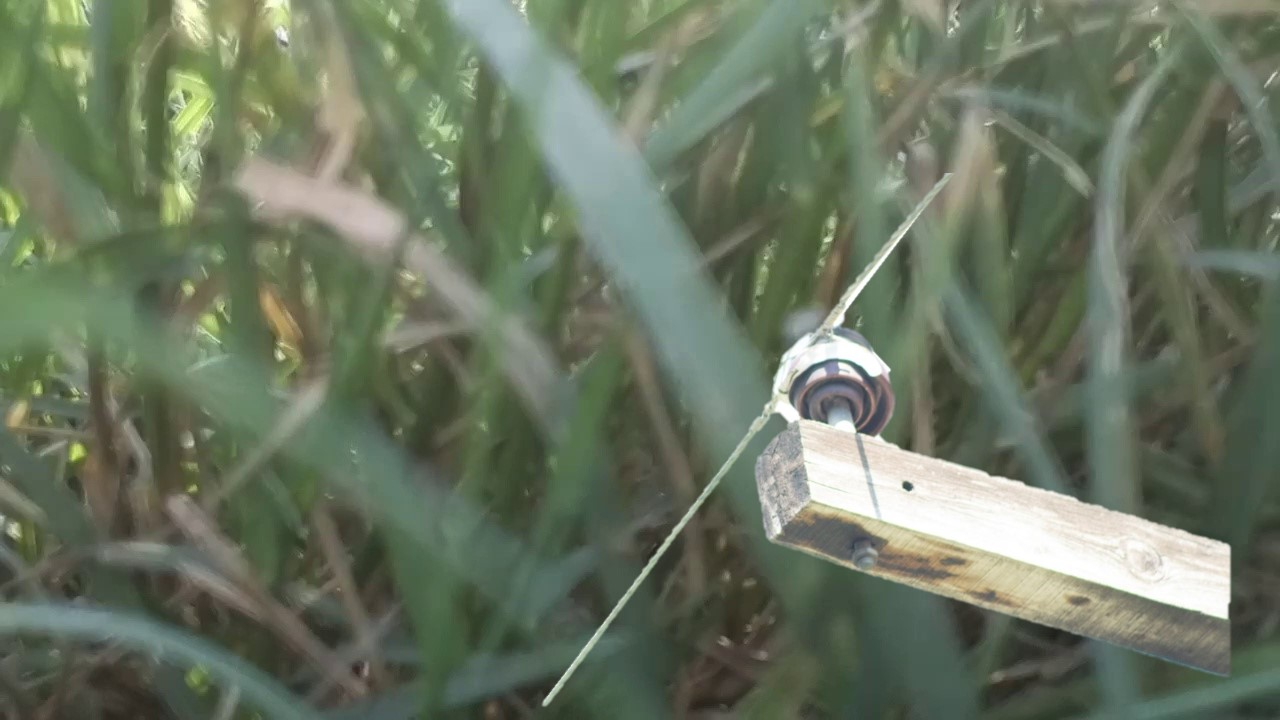defect_pin: (766, 319, 900, 441)
